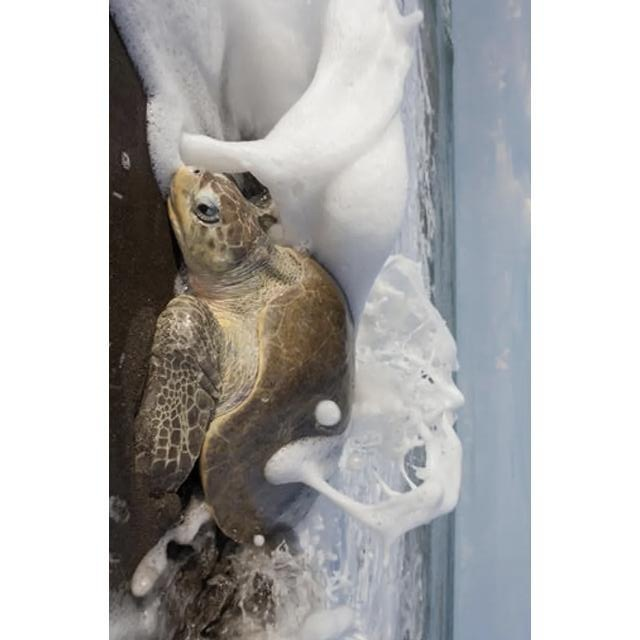turtle: (132, 164, 356, 552)
